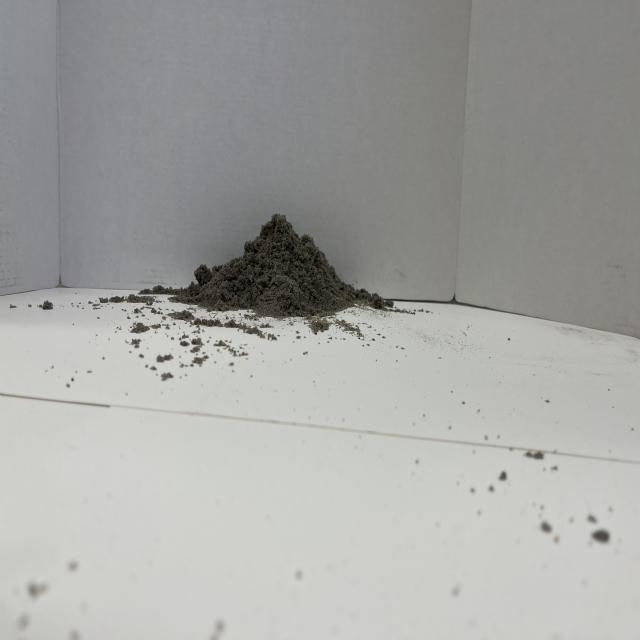sand: (178, 202, 368, 334)
